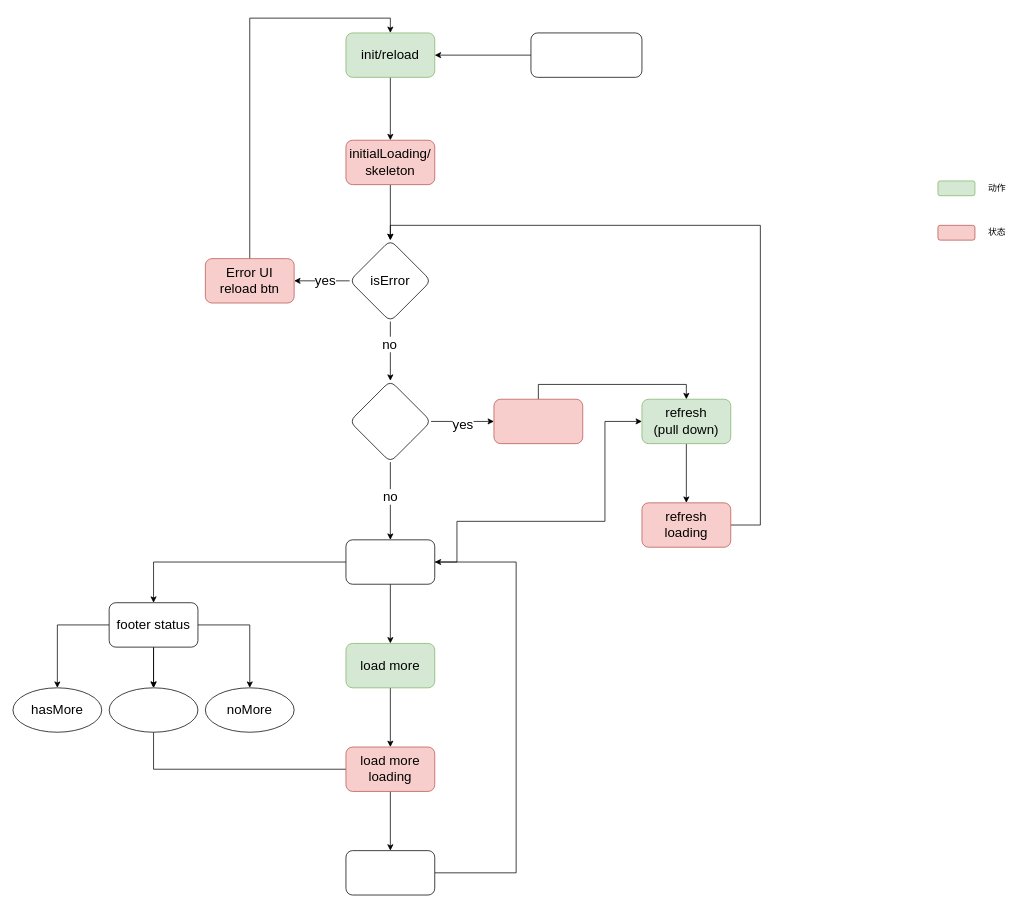
This 1025x908 diagram has some shape labels left out. Here are the shapes that lost their labels. From the top down, the box of each, then its label:
(530, 32, 642, 77): params change
(349, 380, 431, 462): isEmpty
(493, 398, 583, 444): Empty UI
(345, 539, 435, 584): normal list
(108, 687, 198, 732): loading
(345, 850, 435, 895): push data to list
